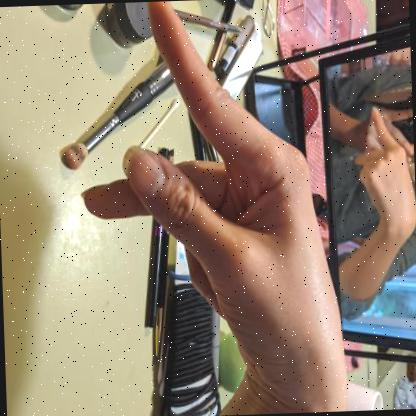P: (123, 1, 355, 396)
